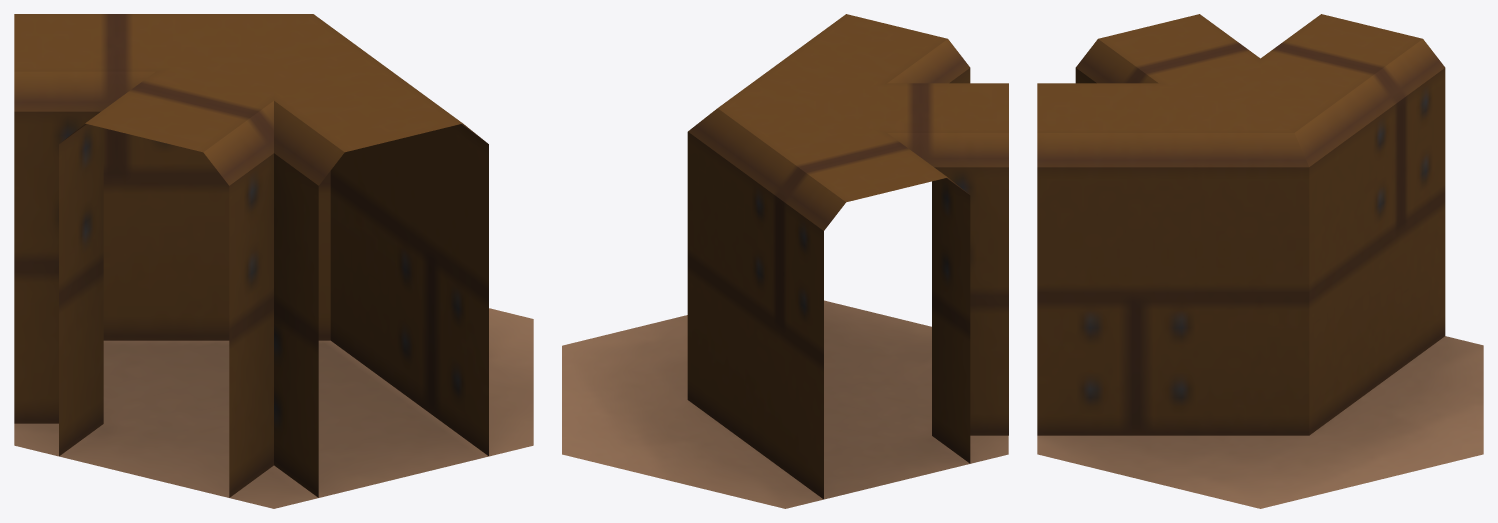
File: Barriere_E.FBX
3 renders of one model, left to right at view 1: azimuth 30°, elevation 25°; view 2: azimuth 150°, elevation 25°; view 3: azimuth 270°, elevation 25°, orthographic. The views are drawn at different scales.
Parts seen in each view (by area): view 1: Barriere_E; view 2: Barriere_E; view 3: Barriere_E.
Boxes of the visible parts, left/top/right/bottom form: Barriere_E: left=14, top=14, right=533, bottom=508; Barriere_E: left=562, top=14, right=1008, bottom=508; Barriere_E: left=1037, top=14, right=1483, bottom=508.
Bounding box in the file's own units: 1 × 0.6247 × 0.8661.
